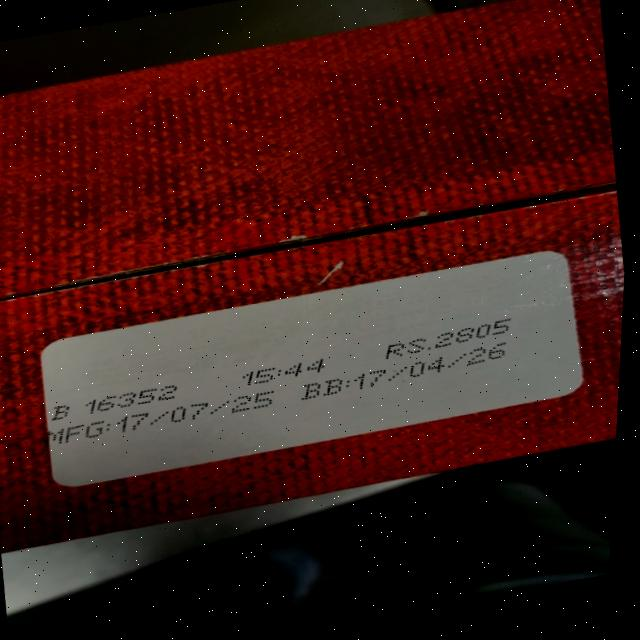BB: (301, 341, 515, 401)
Batch: (47, 383, 187, 422)
MFG: (47, 388, 279, 447)
RS: (383, 318, 519, 358)
TimeStamp: (240, 357, 331, 387)
